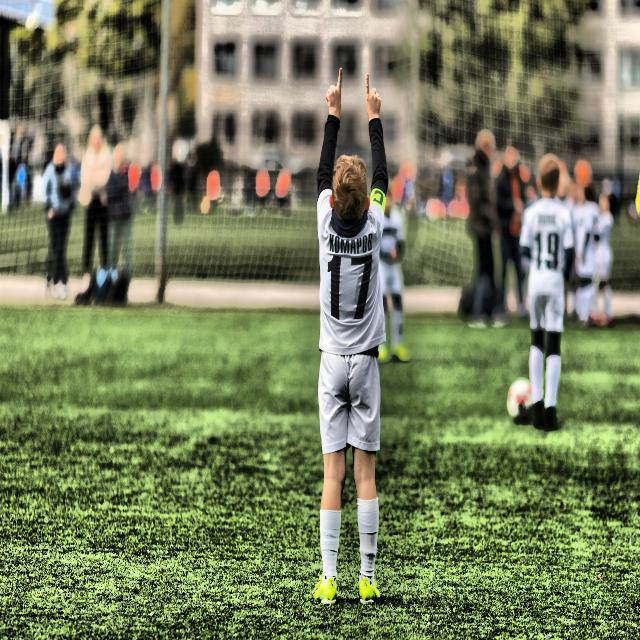Human: (308, 88, 412, 640), (519, 160, 572, 444)
